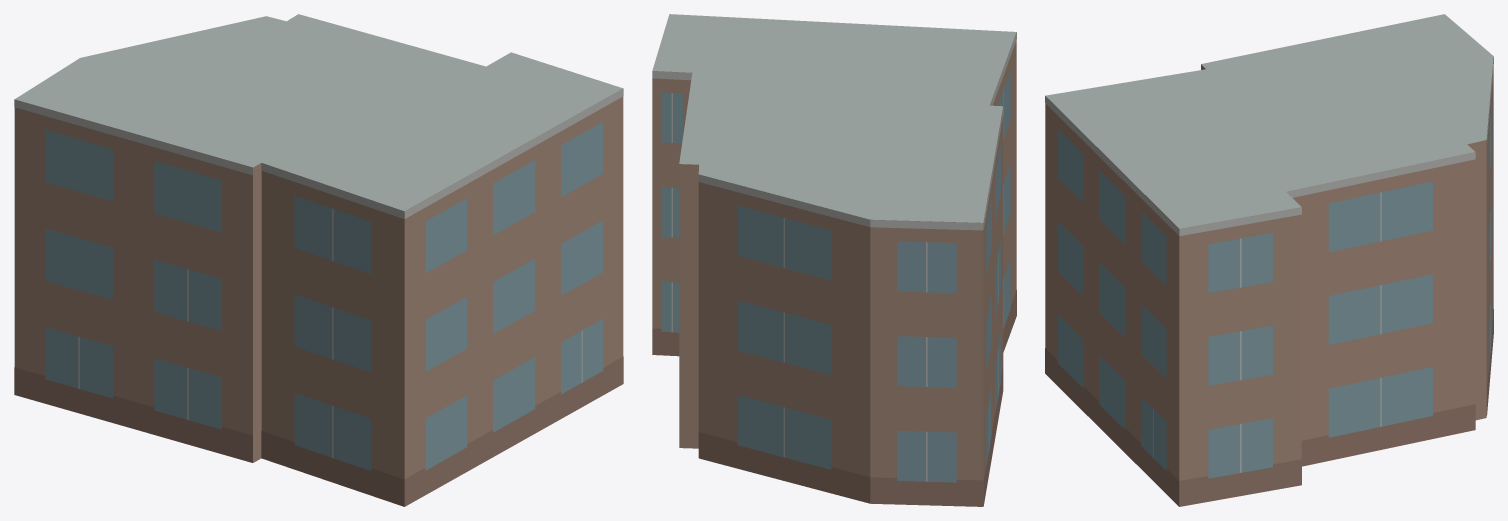
Rendered from survey-upis-32891219.glb.
3 renders of one model, left to right at view 1: azimuth 30°, elevation 25°; view 2: azimuth 150°, elevation 25°; view 3: azimuth 270°, elevation 25°, orthographic. The views are drawn at different scales.
Parts seen in each view (by area): view 1: survey-upis-32891219.tmp; view 2: survey-upis-32891219.tmp; view 3: survey-upis-32891219.tmp.
Part boxes in pixels (left/top/right/bottom): survey-upis-32891219.tmp: left=14, top=14, right=623, bottom=506; survey-upis-32891219.tmp: left=652, top=14, right=1016, bottom=506; survey-upis-32891219.tmp: left=1045, top=14, right=1493, bottom=506.
Size of the model in its own units: 15.17 by 9.15 by 13.38.
